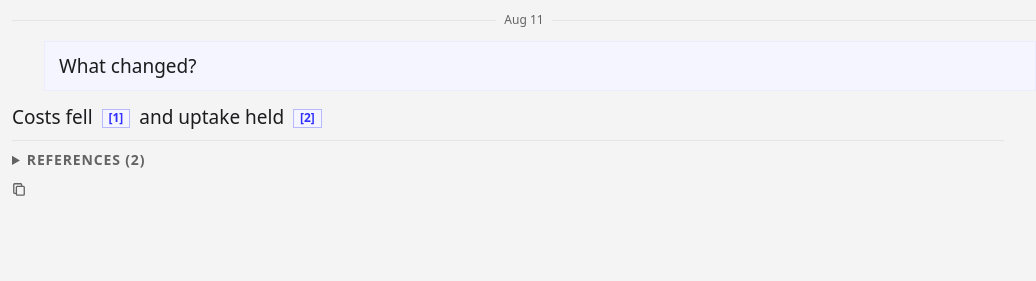
Test case: ChatMessages › shows an unresolved citation as unchecked and a failed one as flagged
What coordinates should you click on to do the following:
click the heading "References (2)"
I would click on:
 (86, 159)
Its box is [27,150,145,169].
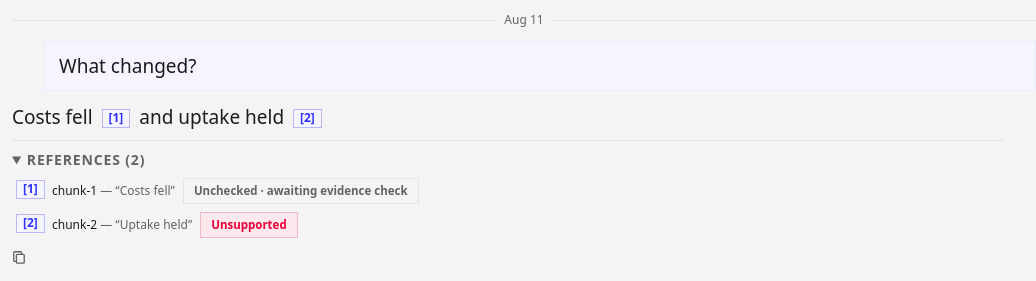
Now the text "Unchecked · awaiting evidence check" is shown, box [183,178,419,204]
Now the text "Unsupported" is shown, box [200,212,298,238]
